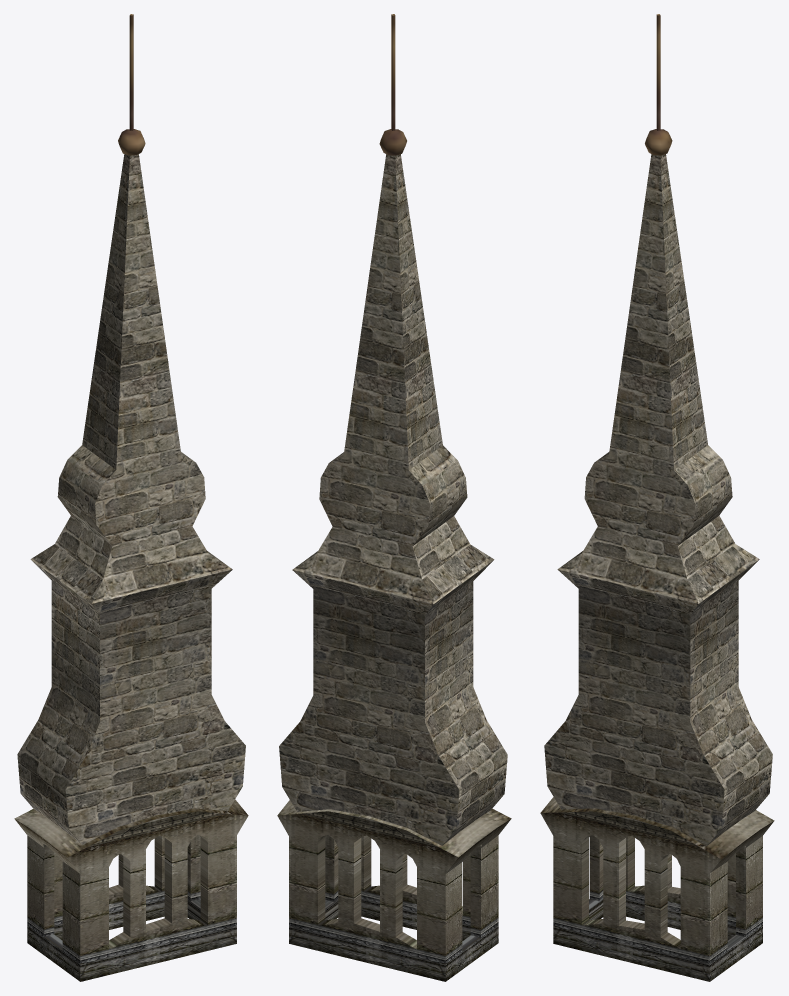
File: SM_Plains_wuding01.FBX
The picture shows the model from 3 angles, left to right: view 1: azimuth 30°, elevation 25°; view 2: azimuth 150°, elevation 25°; view 3: azimuth 330°, elevation 25°; orthographic projection.
Parts seen in each view (by area): view 1: SM_Plains_wuding01b, SM_Plains_wuding01a; view 2: SM_Plains_wuding01b, SM_Plains_wuding01a; view 3: SM_Plains_wuding01b, SM_Plains_wuding01a.
Boxes of the visible parts, box(x1,y1,x2,y2) form: SM_Plains_wuding01b: box(17, 154, 245, 844); SM_Plains_wuding01a: box(14, 14, 248, 981); SM_Plains_wuding01b: box(279, 154, 507, 845); SM_Plains_wuding01a: box(277, 14, 511, 981); SM_Plains_wuding01b: box(544, 154, 772, 846); SM_Plains_wuding01a: box(540, 14, 774, 981).
Bounding box in the file's own units: 323 × 1532 × 183.
